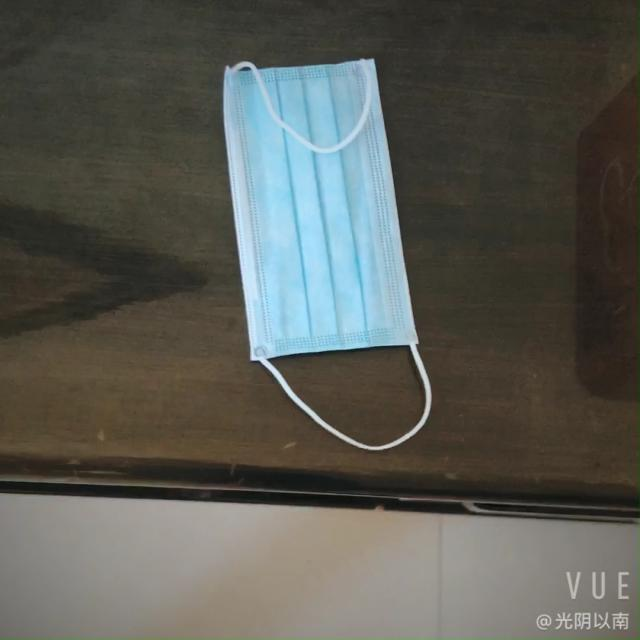face mask: (214, 52, 400, 372)
